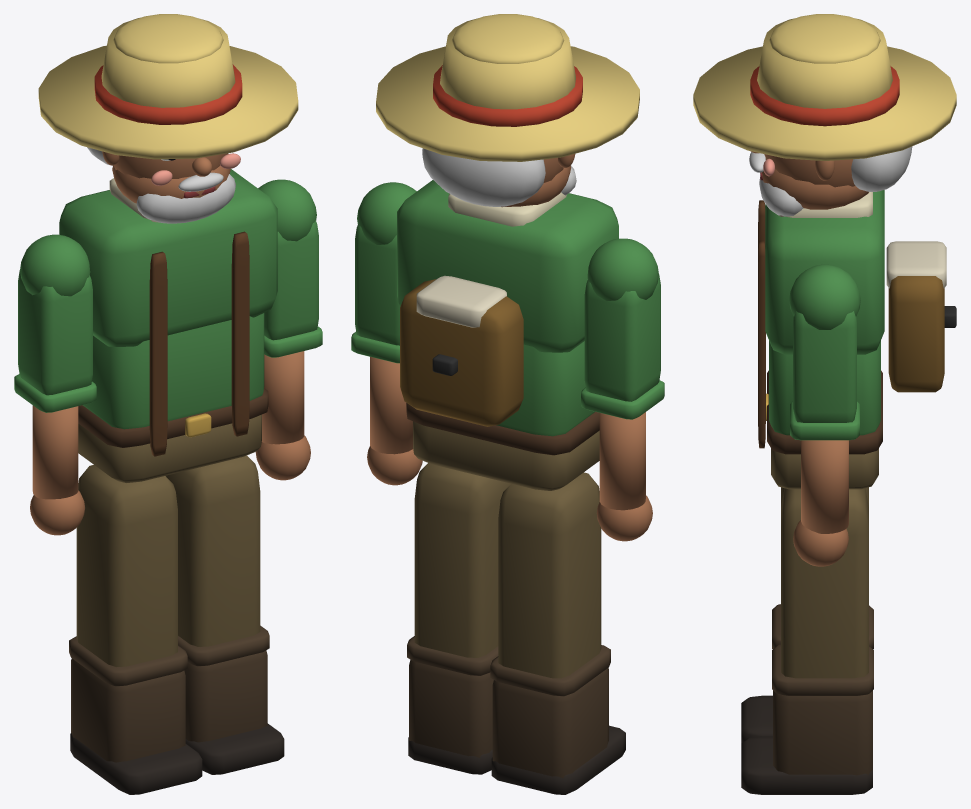
File: angler2.glb
3 renders of one model, left to right at view 1: azimuth 30°, elevation 25°; view 2: azimuth 150°, elevation 25°; view 3: azimuth 270°, elevation 25°, orthographic.
Parts seen in each view (by area): view 1: body_4a8a4a, head_e0c878, legL_6a5a3a, legR_6a5a3a, armL_4a8a4a, legL_4a3a2a, legR_4a3a2a, armR_4a8a4a, body_5a3a22, body_6a5a3a, armL_a8714f, armR_a8714f (+6 smaller); view 2: body_4a8a4a, head_e0c878, legL_6a5a3a, legR_6a5a3a, armL_4a8a4a, body_7a5a2a, legL_4a3a2a, legR_4a3a2a, armR_4a8a4a, body_6a5a3a, armL_a8714f, armR_a8714f (+8 smaller); view 3: head_e0c878, body_4a8a4a, legR_6a5a3a, armR_4a8a4a, legR_4a3a2a, body_7a5a2a, armR_a8714f, legR_2a2420, head_a8714f, head_b8402a, body_d8d0b8, body_6a5a3a (+7 smaller).
Boxes of the visible parts, bbox=[...] form: body_4a8a4a: bbox=[59, 169, 277, 429]; head_e0c878: bbox=[38, 14, 298, 159]; legL_6a5a3a: bbox=[76, 465, 177, 666]; legR_6a5a3a: bbox=[165, 455, 260, 646]; armL_4a8a4a: bbox=[14, 234, 96, 412]; legL_4a3a2a: bbox=[69, 636, 187, 762]; legR_4a3a2a: bbox=[178, 625, 269, 742]; armR_4a8a4a: bbox=[258, 179, 322, 357]; body_5a3a22: bbox=[149, 231, 249, 456]; body_6a5a3a: bbox=[78, 414, 261, 482]; armL_a8714f: bbox=[30, 405, 84, 535]; armR_a8714f: bbox=[255, 351, 310, 480]; body_4a8a4a: bbox=[397, 180, 618, 436]; head_e0c878: bbox=[376, 14, 639, 161]; legL_6a5a3a: bbox=[498, 472, 601, 678]; legR_6a5a3a: bbox=[414, 463, 510, 657]; armL_4a8a4a: bbox=[581, 238, 664, 419]; body_7a5a2a: bbox=[400, 279, 523, 426]; legL_4a3a2a: bbox=[490, 645, 610, 778]; legR_4a3a2a: bbox=[407, 636, 498, 757]; armR_4a8a4a: bbox=[351, 182, 416, 363]; body_6a5a3a: bbox=[413, 421, 599, 490]; armL_a8714f: bbox=[596, 412, 652, 541]; armR_a8714f: bbox=[367, 357, 422, 485]; head_e0c878: bbox=[693, 14, 956, 160]; body_4a8a4a: bbox=[765, 190, 884, 435]; legR_6a5a3a: bbox=[781, 488, 868, 678]; armR_4a8a4a: bbox=[789, 264, 860, 440]; legR_4a3a2a: bbox=[772, 644, 873, 775]; body_7a5a2a: bbox=[888, 276, 944, 392]; armR_a8714f: bbox=[793, 440, 848, 566]; legR_2a2420: bbox=[741, 736, 872, 794]; head_a8714f: bbox=[750, 151, 868, 209]; head_b8402a: bbox=[750, 66, 899, 126]; body_d8d0b8: bbox=[886, 241, 946, 288]; body_6a5a3a: bbox=[771, 448, 878, 489].
Bounding box in the file's own units: 0.8373 × 2.02 × 0.66.
